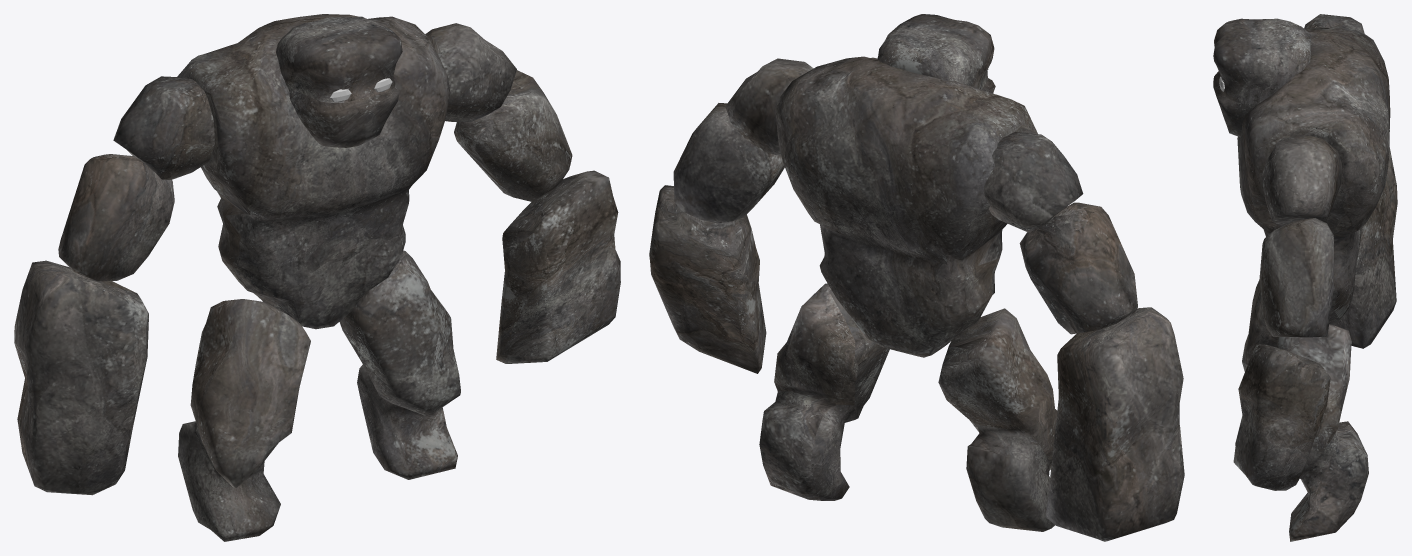
File: walk_000004.obj
3 renders of one model, left to right at view 1: azimuth 30°, elevation 25°; view 2: azimuth 150°, elevation 25°; view 3: azimuth 270°, elevation 25°, orthographic. The views are drawn at different scales.
Parts seen in each view (by area): view 1: hands&leg.001_ice.003, torso.001_ice.005, head.001_ice.004; view 2: hands&leg.001_ice.003, torso.001_ice.005, head.001_ice.004; view 3: hands&leg.001_ice.003, torso.001_ice.005, head.001_ice.004.
Boxes of the visible parts, box(x1,y1,x2,y2) form: hands&leg.001_ice.003: box(14, 23, 620, 541); torso.001_ice.005: box(177, 14, 450, 329); head.001_ice.004: box(276, 16, 402, 147); hands&leg.001_ice.003: box(649, 58, 1184, 541); torso.001_ice.005: box(775, 56, 1037, 357); head.001_ice.004: box(877, 14, 995, 93); hands&leg.001_ice.003: box(1233, 14, 1397, 541); torso.001_ice.005: box(1237, 25, 1390, 324); head.001_ice.004: box(1213, 18, 1311, 137).
Size of the model in its own units: 11.55 by 9.5 by 3.49.
Materials: 2 (1 with a texture image).
